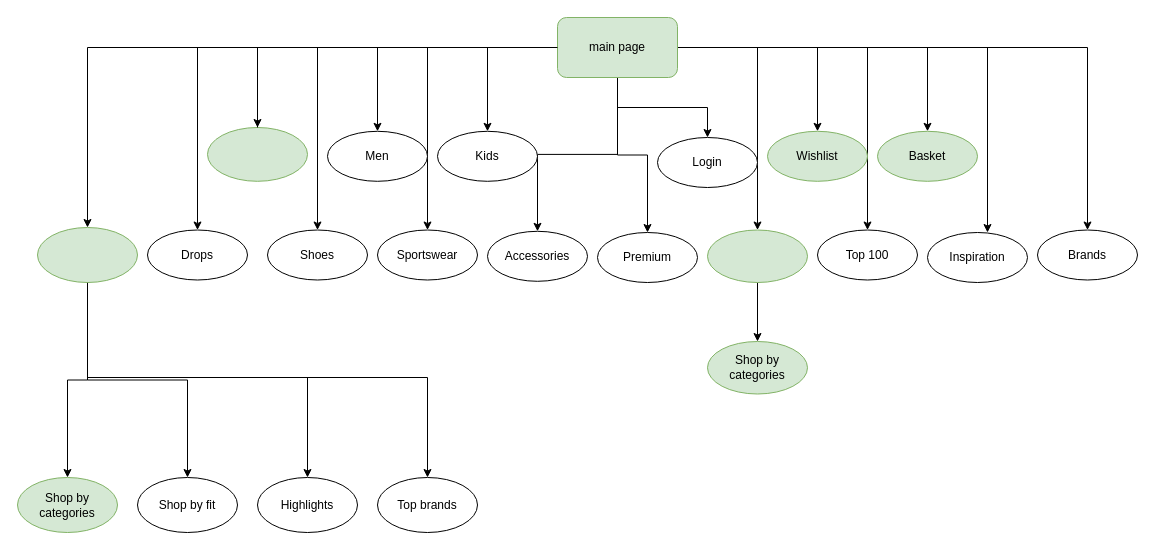
Image size: 1155x550. Some labels were removed from this diagram. The shapes that lost their labels are listed below. From the top down, each one's centre as x and y in pixels, then its label:
At point 257,153: "Women".
At point 87,254: "Clothing".
At point 757,255: "Sale".
